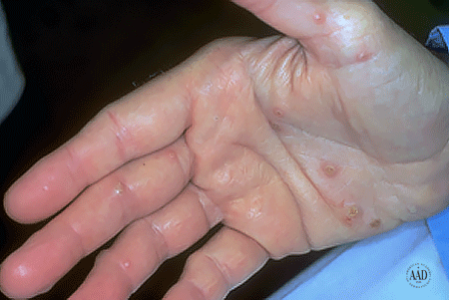Diseased: (194, 16, 412, 235)
